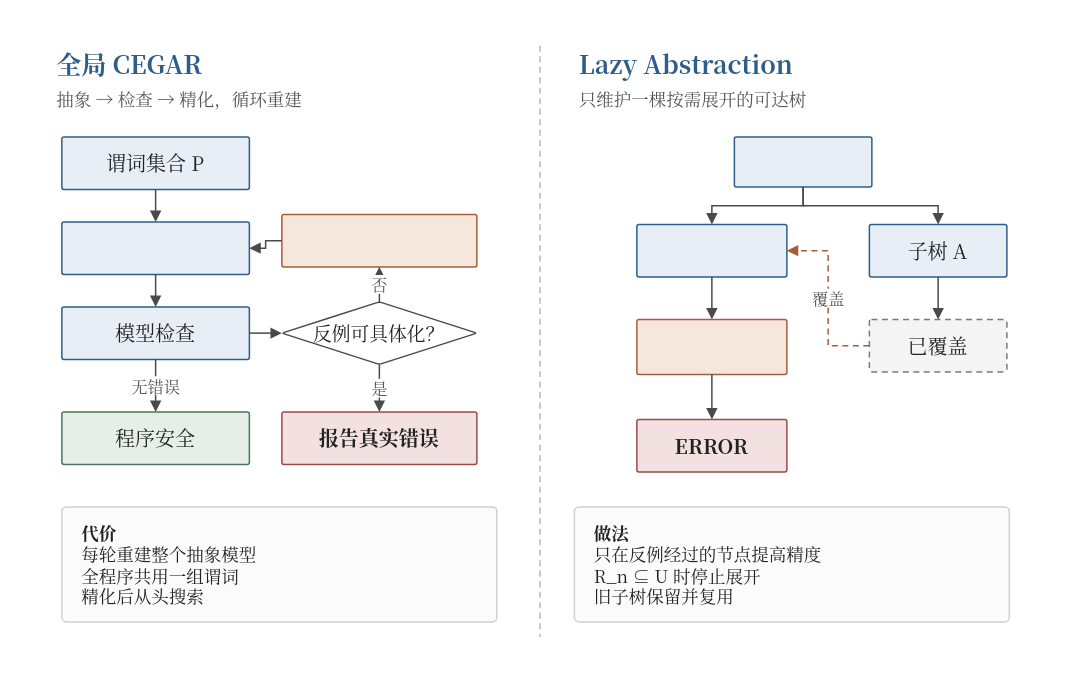
Some shapes in this 1078 by 693 pixel diagram are drawn without their labels. Each missing label, with the box of its shape:
pivot: (636, 318, 787, 374)
位置 2: (636, 223, 787, 277)
入口: (733, 136, 872, 187)
加入新谓词: (280, 213, 477, 267)
构造全局抽象模型: (60, 220, 250, 274)
